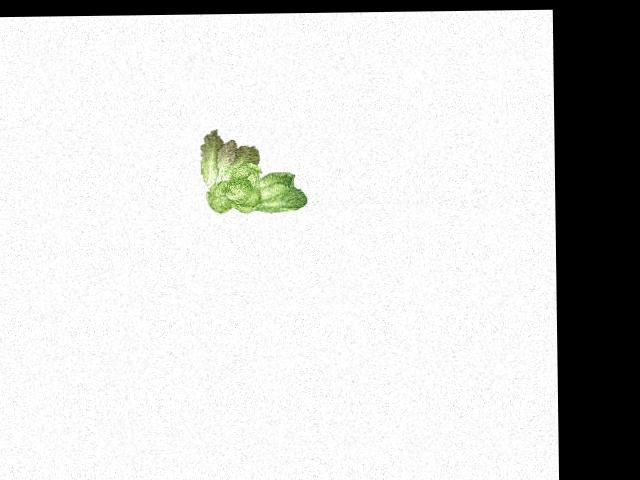lettuce: (198, 123, 308, 219)
